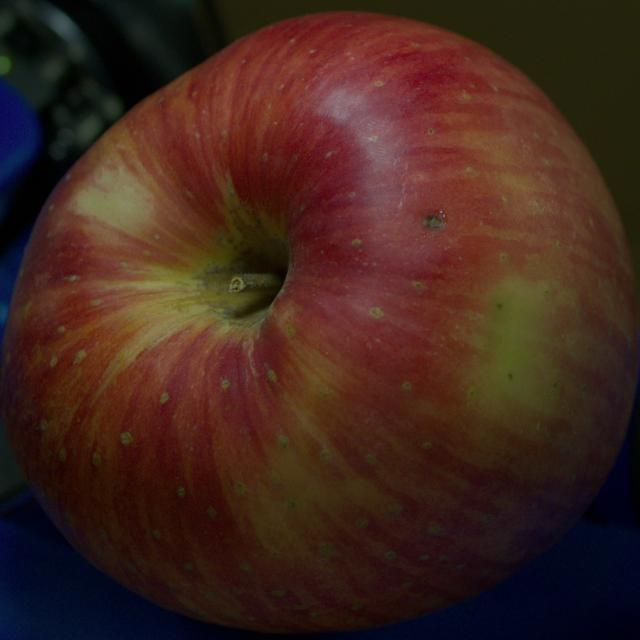apple: (0, 12, 639, 632)
pest: (422, 211, 446, 228)
